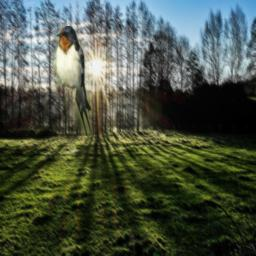Swallow: (53, 26, 93, 136)
